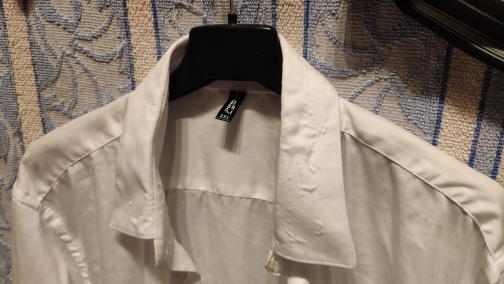shirts: (17, 23, 504, 276)
